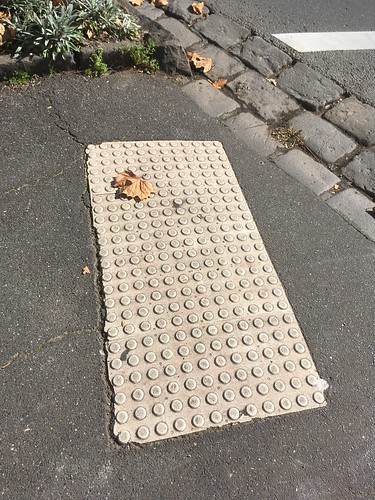sidewalk: (24, 64, 375, 500)
